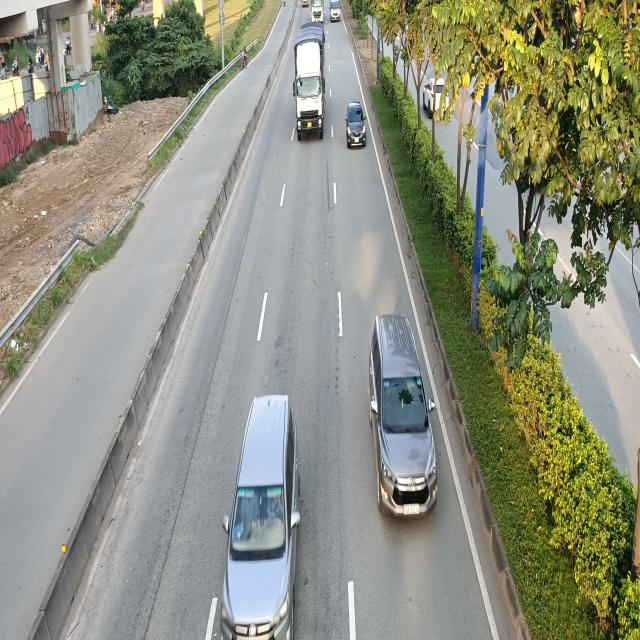car: (225, 392, 306, 636), (370, 316, 440, 516), (346, 103, 367, 149)
truck: (292, 23, 324, 138)
